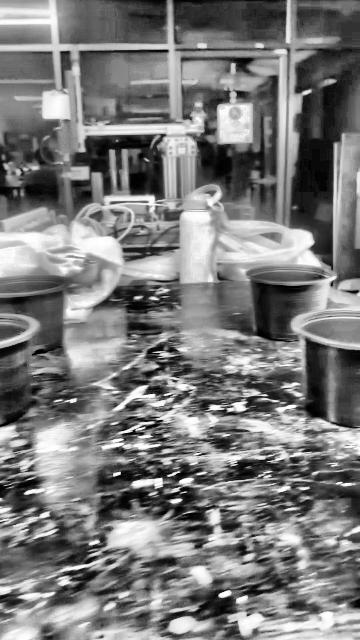pot: (295, 310, 360, 429), (246, 263, 335, 339), (0, 275, 65, 352), (0, 314, 39, 426)
